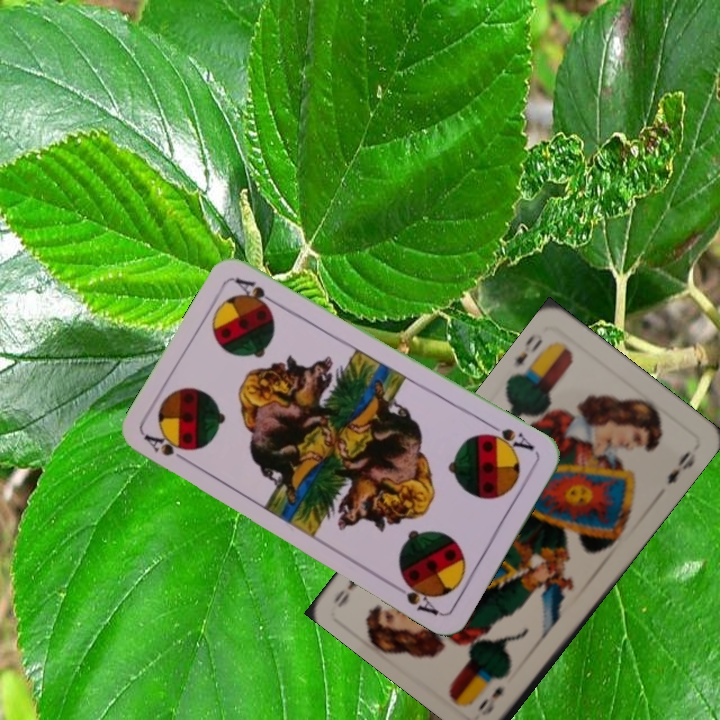EO: (509, 332, 548, 379), (475, 682, 507, 719)
SA: (480, 419, 537, 456), (140, 430, 194, 467)
